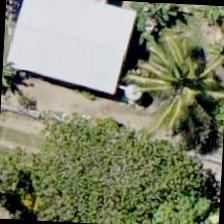Kelapa_Sawit: (130, 33, 223, 129)
